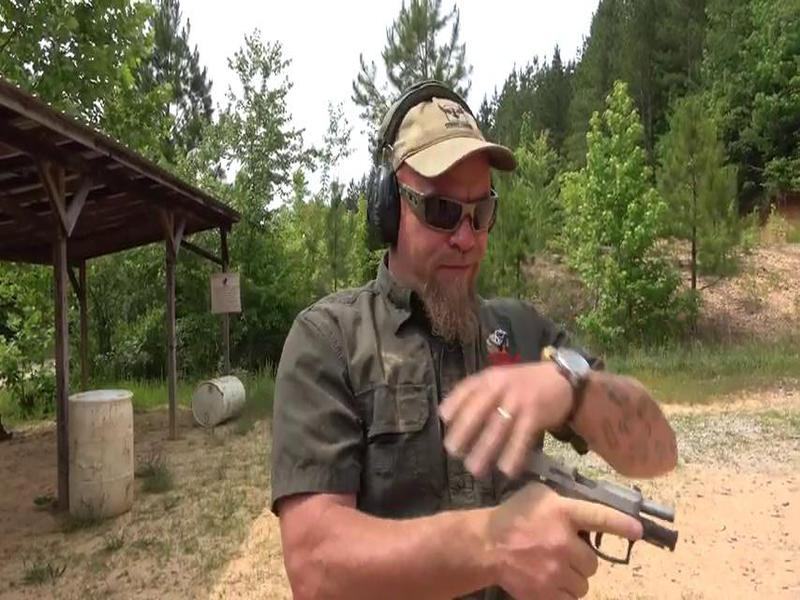Pistola: (452, 432, 672, 600)
